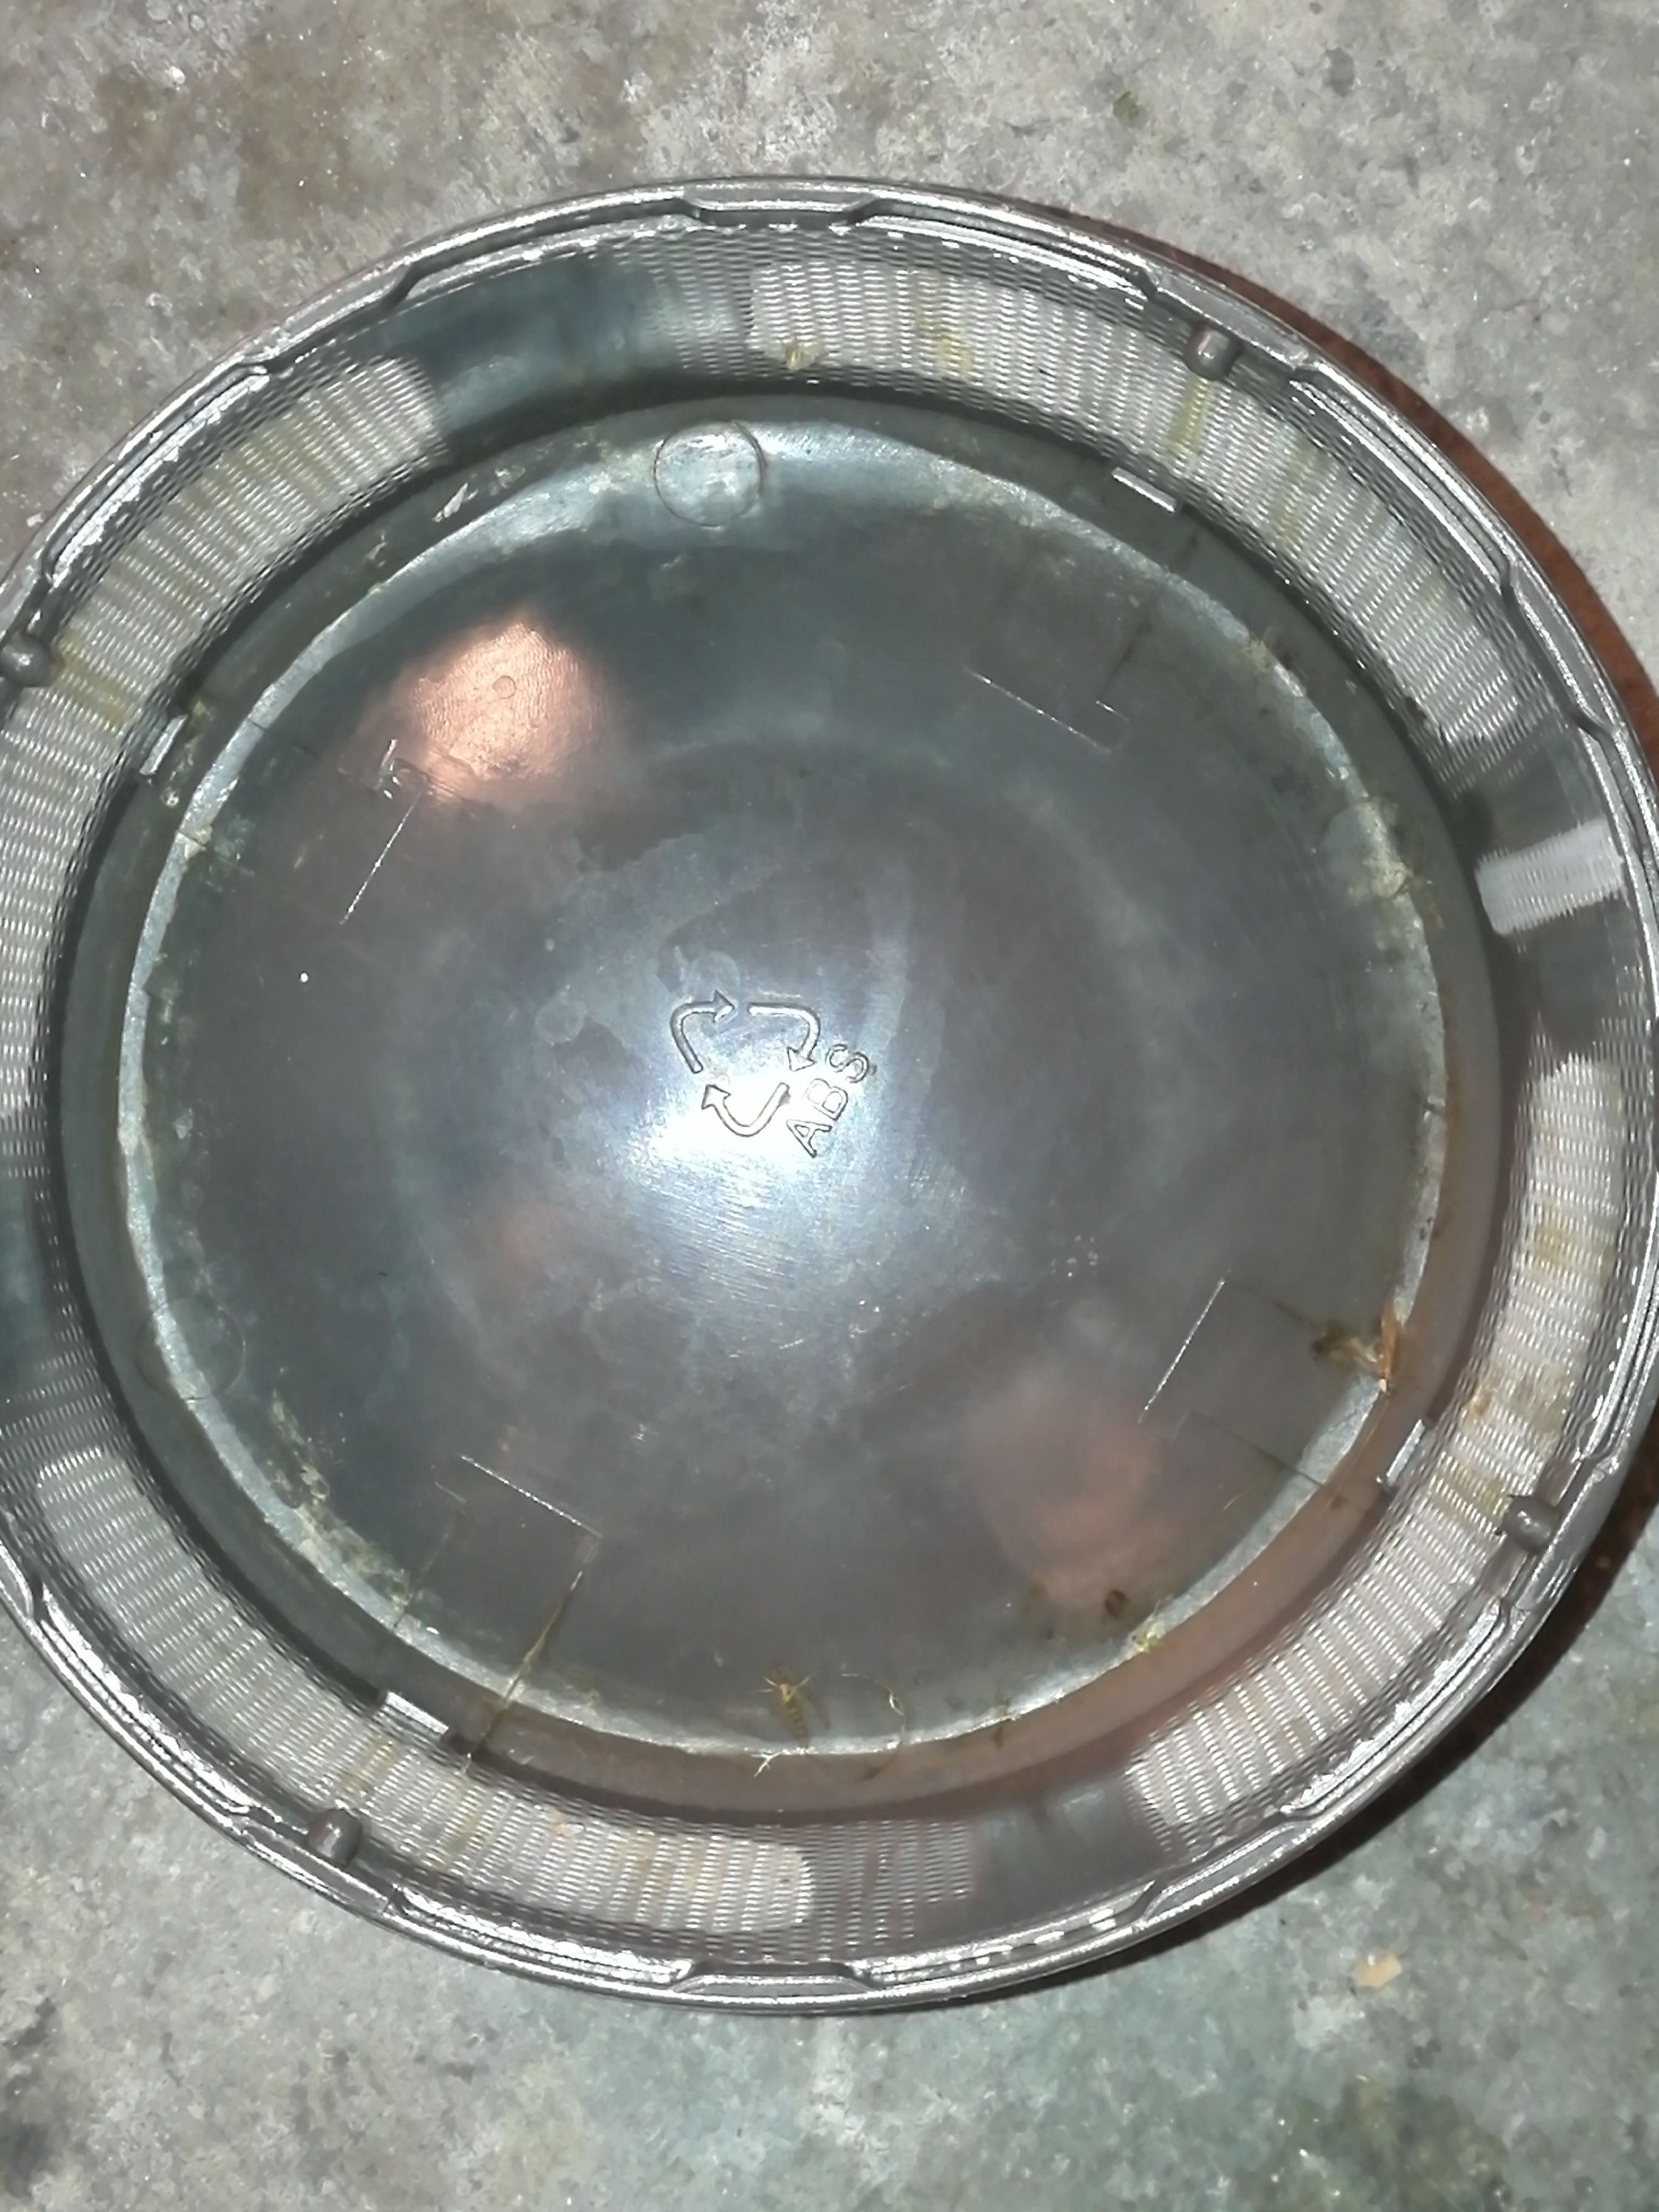mosquito: (779, 1681, 809, 1745)
moth: (1330, 1305, 1398, 1390), (763, 331, 824, 368), (1314, 1318, 1347, 1357)
